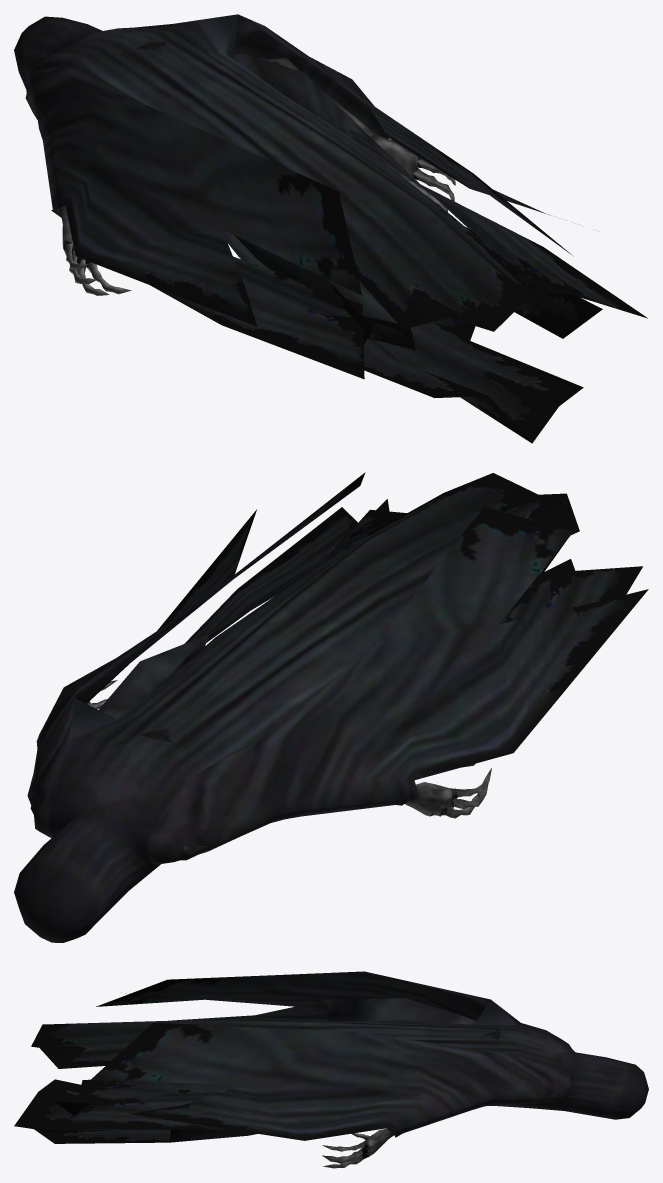
The picture shows the model from 3 angles, top to bottom: view 1: azimuth 30°, elevation 25°; view 2: azimuth 150°, elevation 25°; view 3: azimuth 270°, elevation 25°; orthographic projection. The views are drawn at different scales.
Parts seen in each view (by area): view 1: SketchUp, material_0; view 2: SketchUp, material_0; view 3: SketchUp, material_0.
Part boxes in pixels (bbox=[...]): SketchUp: bbox=[14, 14, 647, 443]; material_0: bbox=[26, 42, 455, 295]; SketchUp: bbox=[14, 472, 648, 942]; material_0: bbox=[30, 680, 491, 860]; SketchUp: bbox=[14, 971, 648, 1143]; material_0: bbox=[322, 1027, 556, 1168].
Size of the model in its own units: 2951 by 6283 by 1398.
2 materials, 2 textured.
